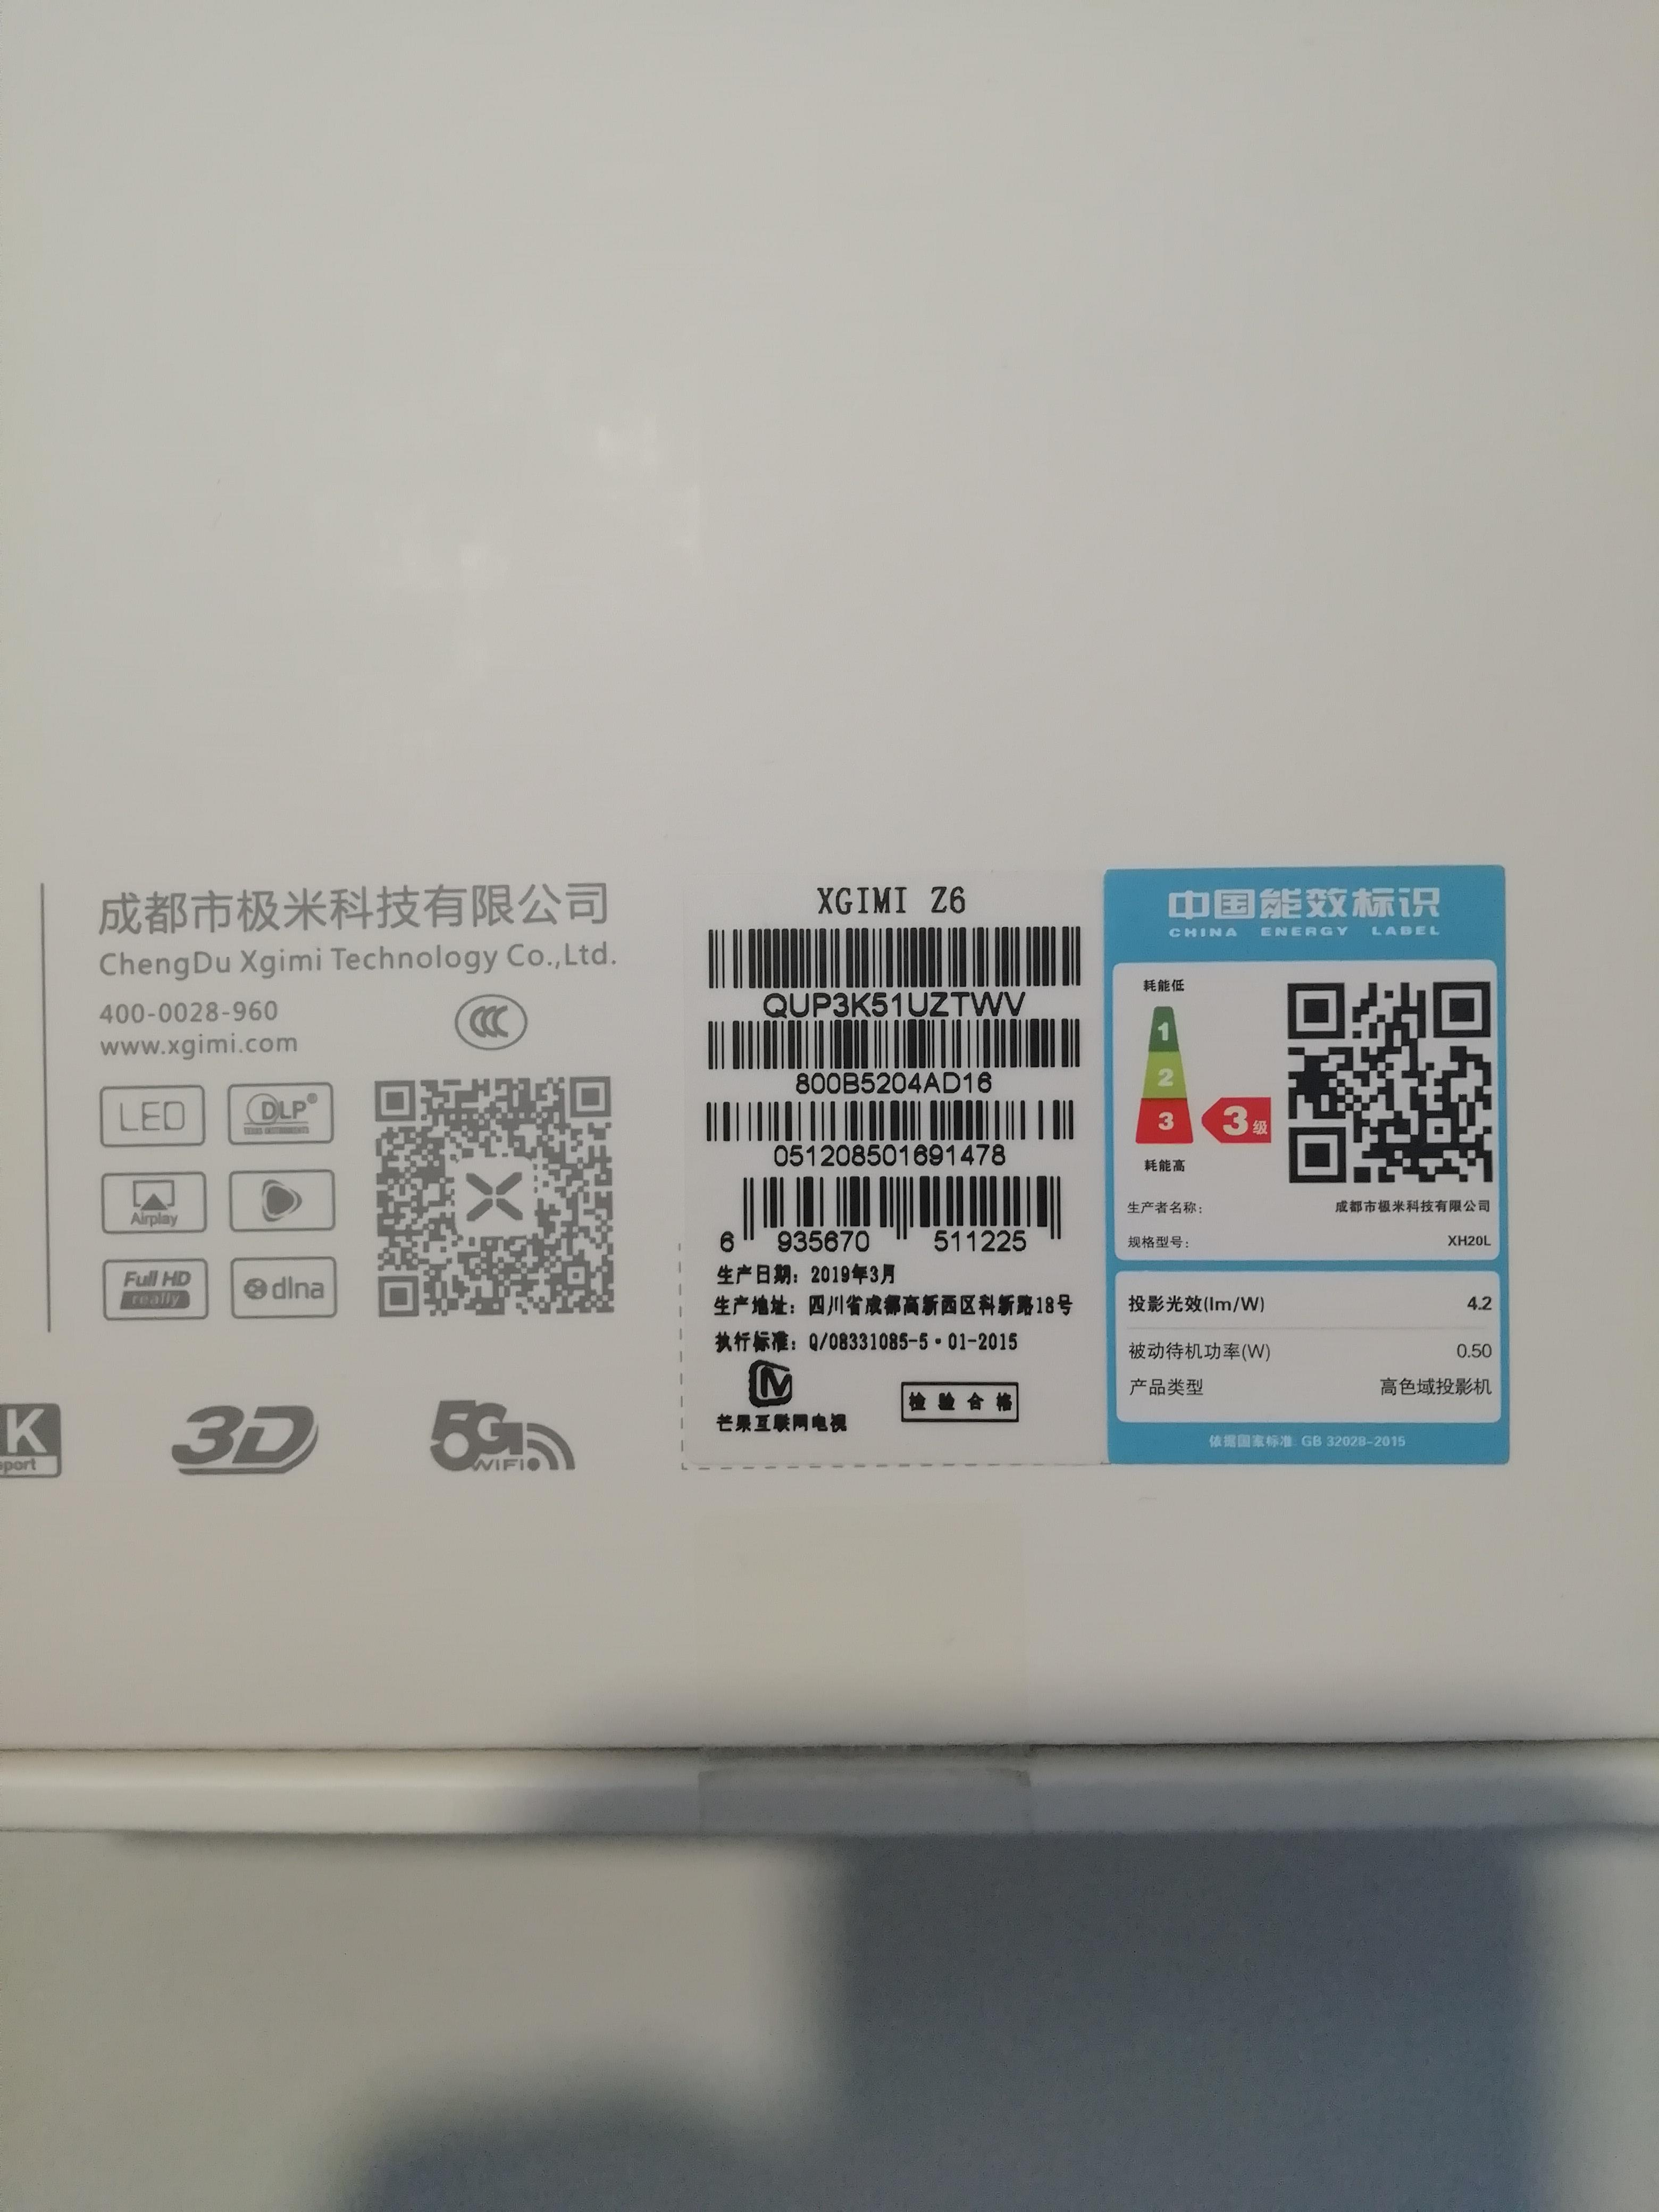qrcode: (373, 1071, 617, 1318), (1284, 977, 1500, 1190)
